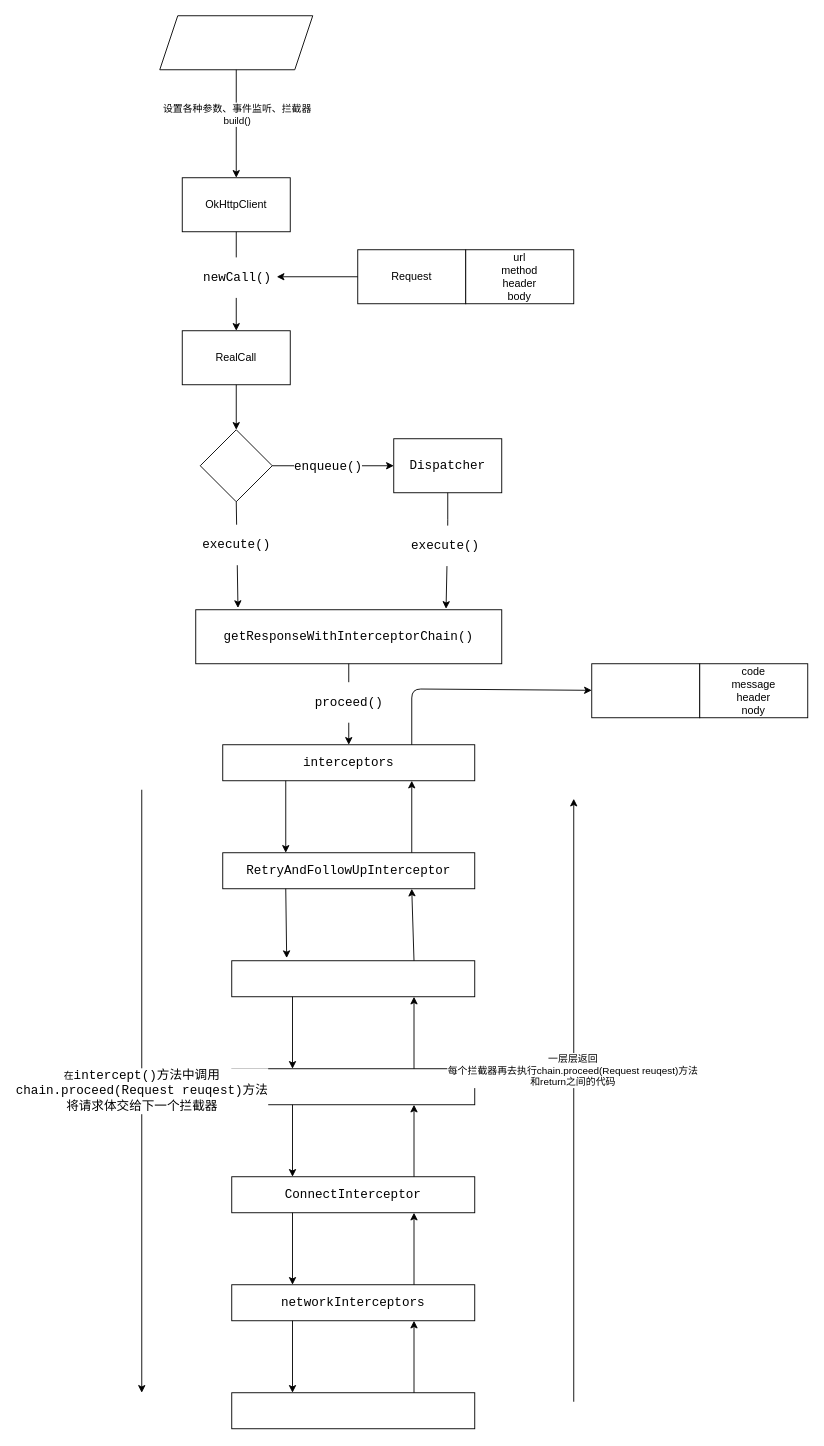
Image size: 824x1446. Some labels were removed from this diagram. The shapes that lost their labels are listed below. From the top down, each one's centre as x and y in pixels, then its label:
(236,42): OkHttpClient . Builder ( )
(235,465): 同步/异步
(645,690): Response
(353,978): BridgeInterceptor
(353,1086): CacheInterceptor
(353,1410): CallServerInterceptor
